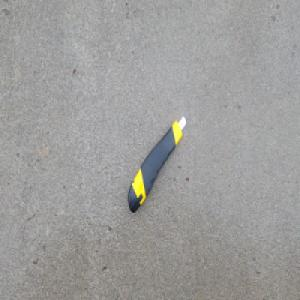Cutter: (127, 114, 187, 214)
